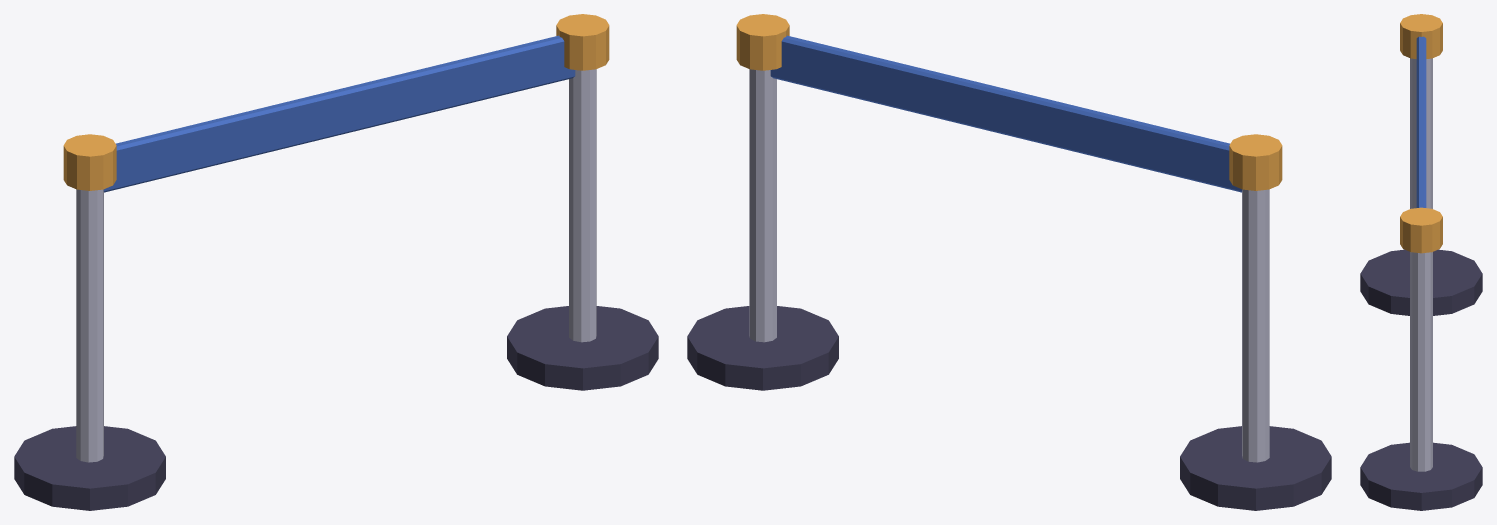
The model's file is 10_Queue_Barrier.glb.
3 renders of one model, left to right at view 1: azimuth 30°, elevation 25°; view 2: azimuth 150°, elevation 25°; view 3: azimuth 270°, elevation 25°, orthographic. The views are drawn at different scales.
Visible parts, largest first — view 1: 10_Queue_Barrier__Body; view 2: 10_Queue_Barrier__Body; view 3: 10_Queue_Barrier__Body.
Part boxes in pixels (x1=…): 10_Queue_Barrier__Body: x1=14, y1=14, x2=658, y2=510; 10_Queue_Barrier__Body: x1=687, y1=14, x2=1331, y2=510; 10_Queue_Barrier__Body: x1=1360, y1=14, x2=1482, y2=510.
Bounding box in the file's own units: 3.8 × 1.94 × 0.8.
Materials: 1 (1 with a texture image).
